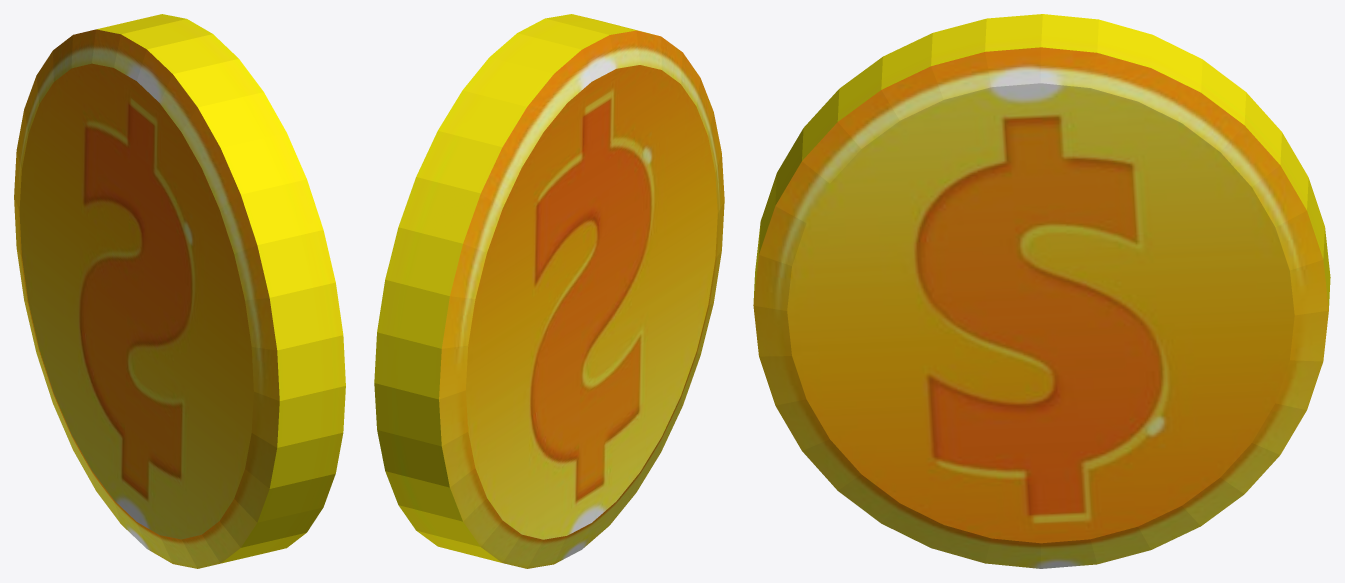
File: Money.fbx
3 renders of one model, left to right at view 1: azimuth 30°, elevation 25°; view 2: azimuth 150°, elevation 25°; view 3: azimuth 270°, elevation 25°, orthographic. The views are drawn at different scales.
Visible parts, largest first — view 1: money; view 2: money; view 3: money.
Part boxes in pixels (x1=…): money: x1=14, y1=14, x2=345, y2=568; money: x1=374, y1=14, x2=724, y2=568; money: x1=753, y1=14, x2=1330, y2=568.
Size of the model in its own units: 32.32 by 164 by 164.
